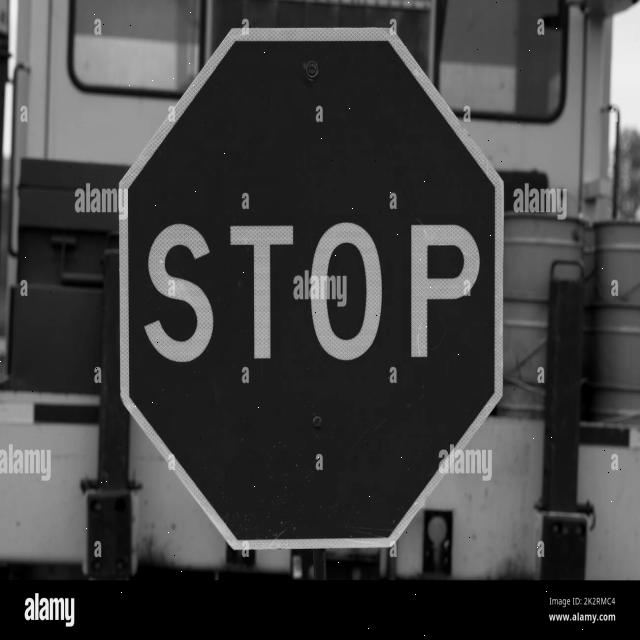Stop-sign: (114, 1, 512, 572)
